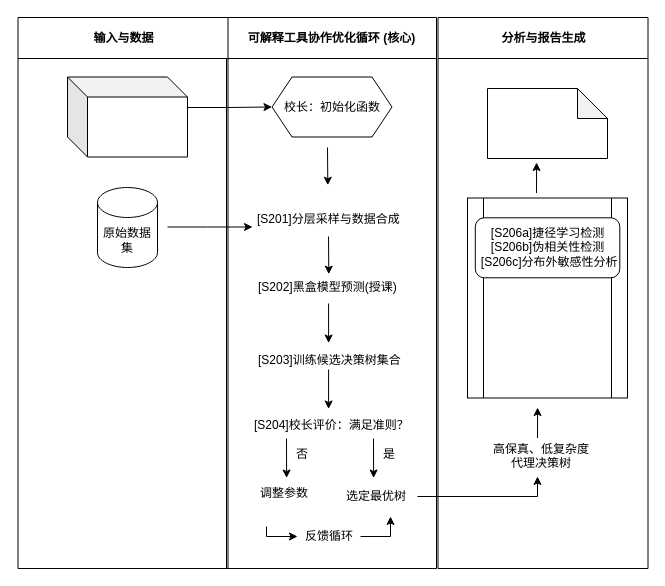
This 665x586 diagram has some shape labels left out. Each missing label, with the box of its shape:
[S205]归纳偏差自动化分析引擎: (466, 197, 628, 398)
[S207]生成 <<结构化信任报告>>: (486, 88, 608, 158)
（黑盒模型）待解释的目标AI模型: (66, 76, 188, 157)
